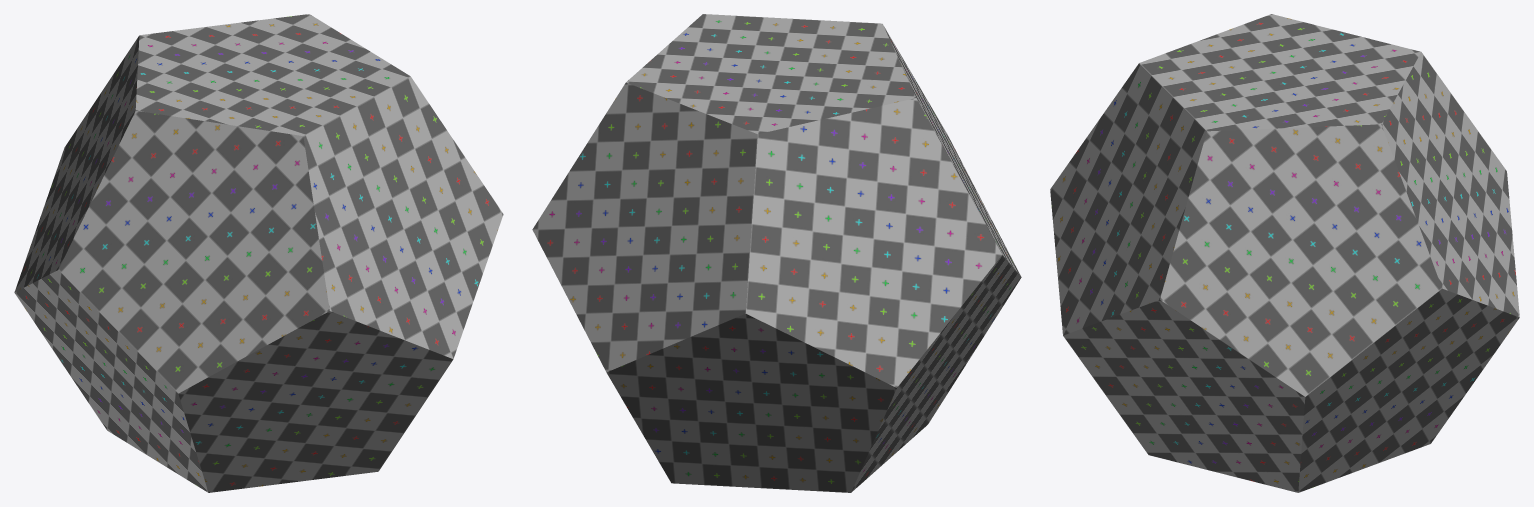
File: testobject.obj
3 views of the same model, side by side, from view 1: azimuth 30°, elevation 25°; view 2: azimuth 150°, elevation 25°; view 3: azimuth 270°, elevation 25° (orthographic). The views are drawn at different scales.
Visible parts, largest first — view 1: Solid; view 2: Solid; view 3: Solid.
Part boxes in pixels (x1,y1,x2,y2): Solid: [14, 14, 503, 492]; Solid: [532, 14, 1021, 492]; Solid: [1050, 14, 1519, 492].
Size of the model in its own units: 2.57 by 2.1 by 2.52.
1 material, 1 textured.
